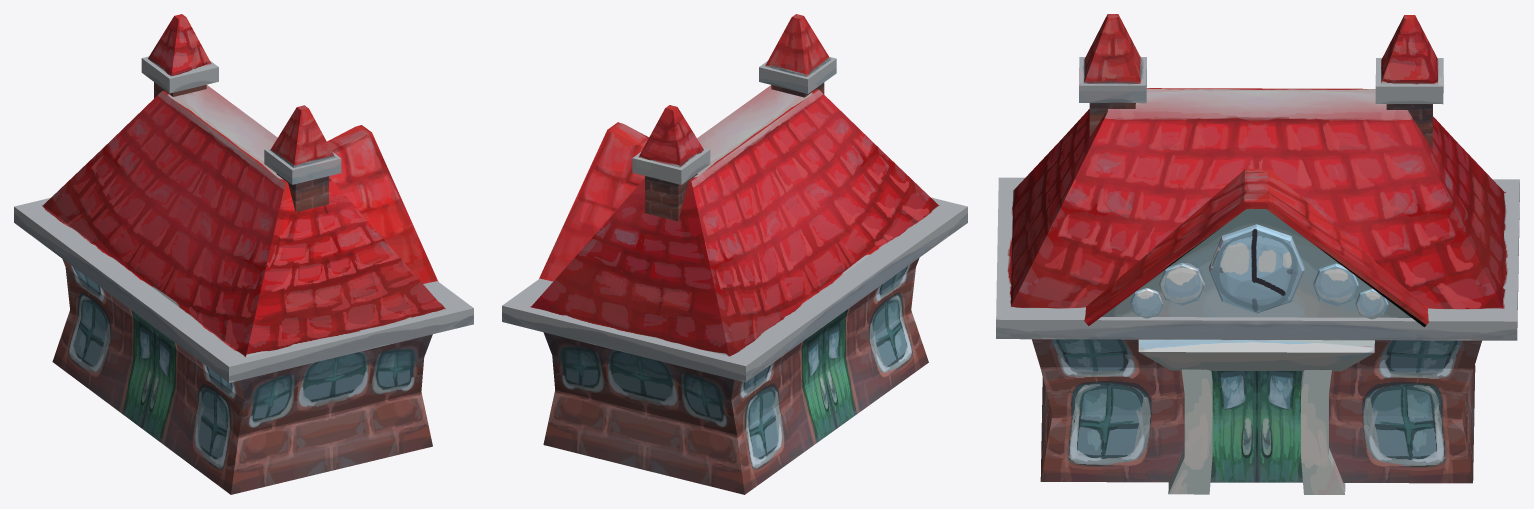
Rendered from School_Textured.fbx.
3 views of the same model, side by side, from view 1: azimuth 30°, elevation 25°; view 2: azimuth 150°, elevation 25°; view 3: azimuth 270°, elevation 25° (orthographic). The views are drawn at different scales.
Parts seen in each view (by area): view 1: School_Base, School_Roof; view 2: School_Base, School_Roof; view 3: School_Base, School_Roof.
Part boxes in pixels (box(x1,y1,x2,y2)): School_Base: box(14, 85, 473, 494); School_Roof: box(141, 14, 438, 283); School_Base: box(502, 85, 967, 494); School_Roof: box(539, 14, 836, 281); School_Base: box(996, 88, 1519, 483); School_Roof: box(1079, 14, 1443, 494).
Bounding box in the file's own units: 196 × 256 × 296.
2 materials, 2 textured.
